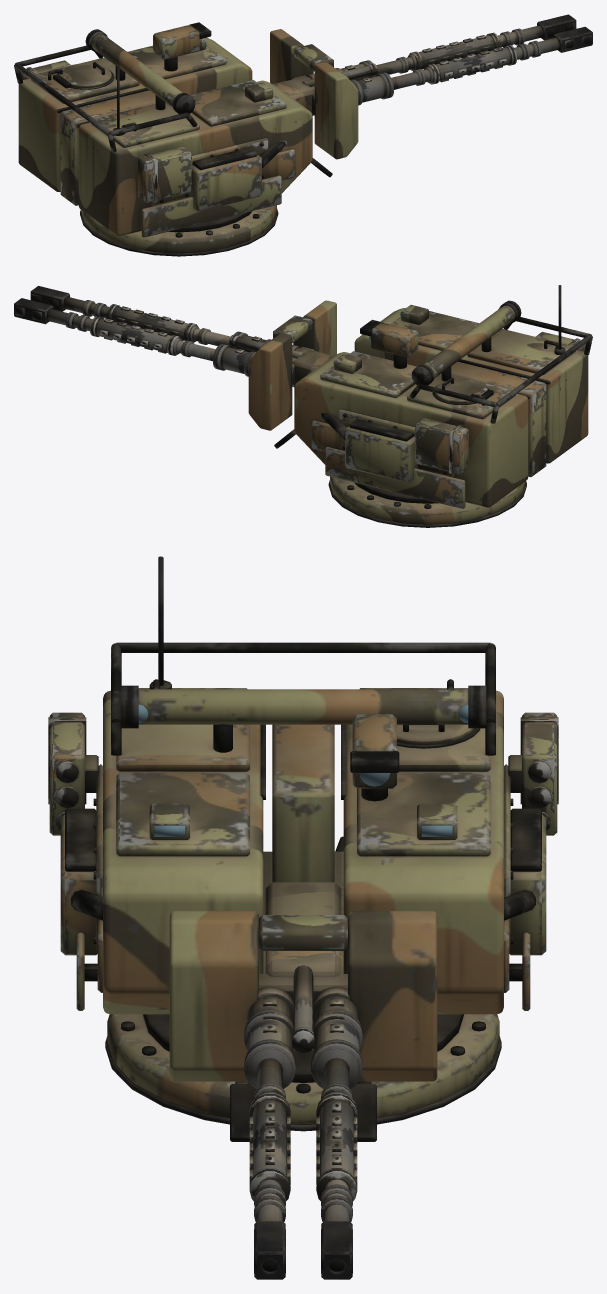
Rendered from turret_kit_t3_steppe.glb.
3 renders of one model, top to bottom at view 1: azimuth 30°, elevation 25°; view 2: azimuth 150°, elevation 25°; view 3: azimuth 270°, elevation 25°, orthographic. The views are drawn at different scales.
Parts seen in each view (by area): view 1: turret_twin_t3, guns, pods; view 2: turret_twin_t3, guns, pods; view 3: turret_twin_t3, guns, pods.
Boxes of the visible parts, box(x1,y1,x2,y2) form: turret_twin_t3: box(14, 22, 358, 256); guns: box(273, 14, 592, 115); pods: box(21, 60, 191, 202); turret_twin_t3: box(248, 285, 592, 527); guns: box(14, 286, 333, 387); pods: box(415, 331, 586, 474); turret_twin_t3: box(60, 556, 546, 1141); guns: box(244, 882, 362, 1279); pods: box(48, 712, 558, 835).
Bounding box in the file's own units: 2.7 × 0.98 × 1.15.
Materials: 4 (3 with a texture image).
